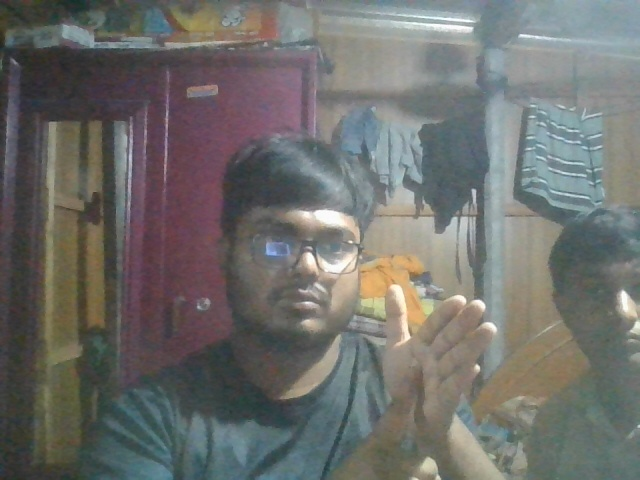r: (331, 288, 516, 475)
